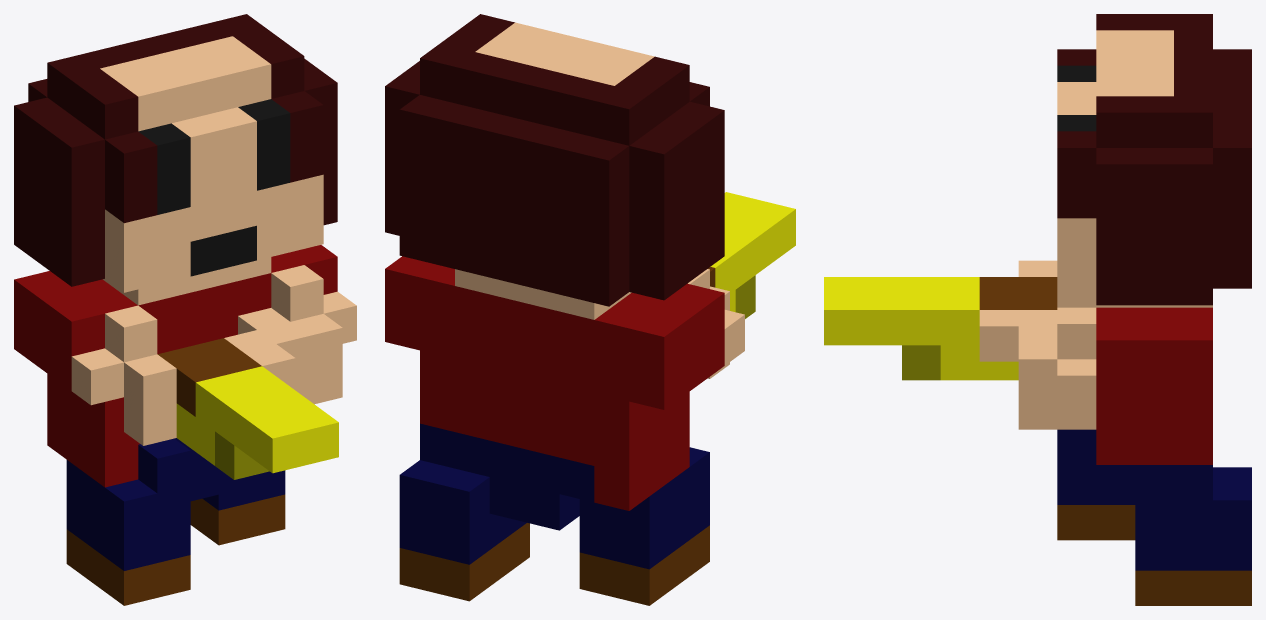
Rendered from Prototype Player Golden Gun Model.obj.
3 renders of one model, left to right at view 1: azimuth 30°, elevation 25°; view 2: azimuth 150°, elevation 25°; view 3: azimuth 270°, elevation 25°, orthographic. The views are drawn at different scales.
Size of the model in its own units: 0.8 by 1.4 by 1.1.
